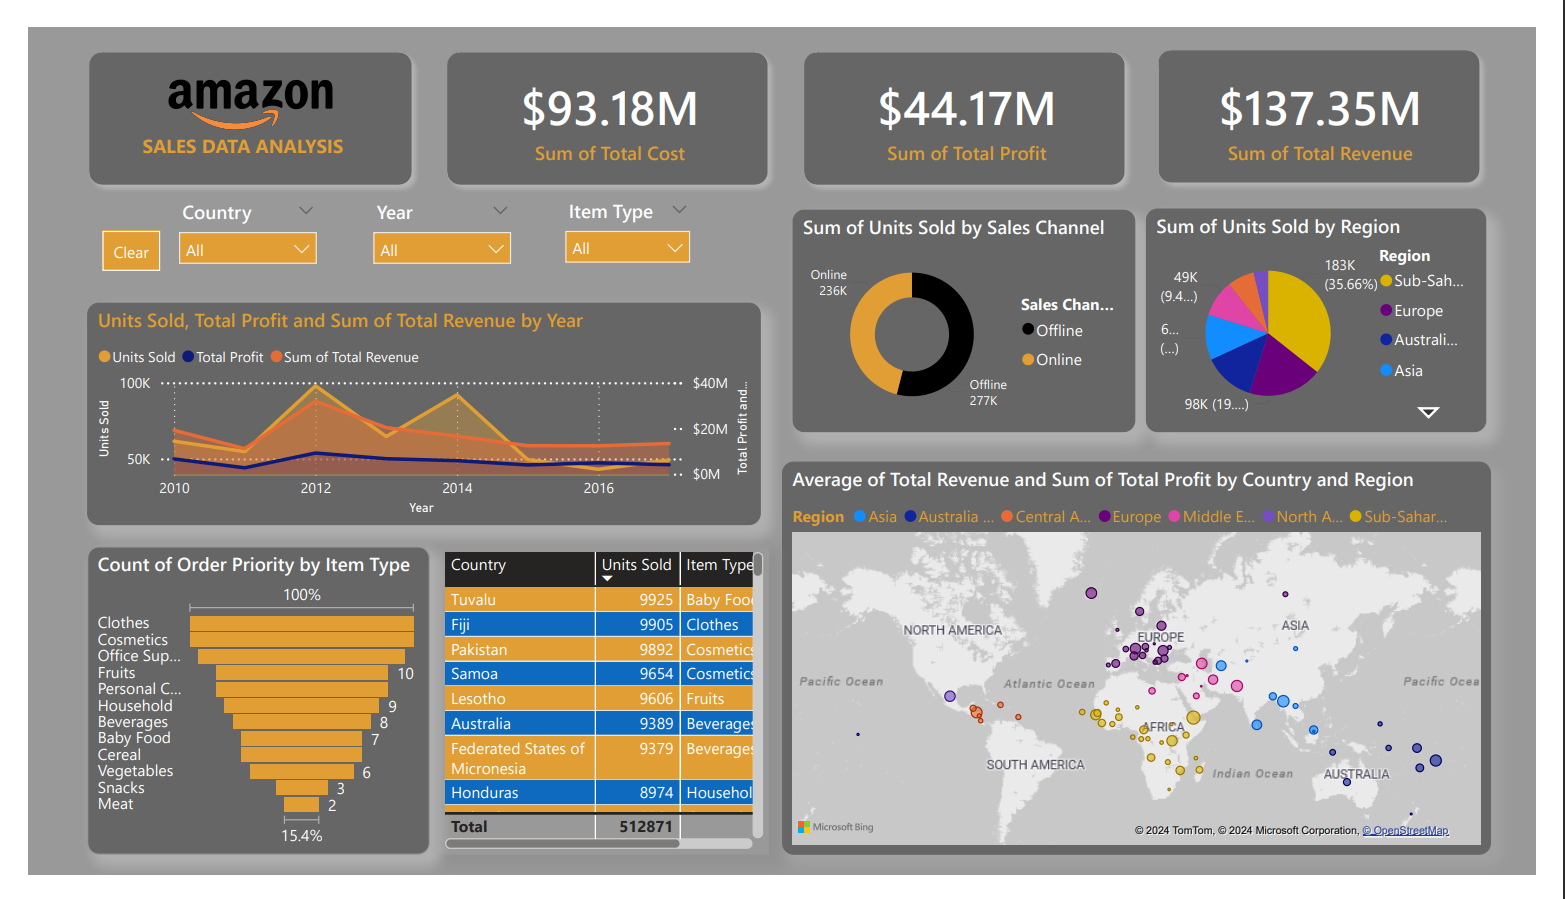

This screenshot's page, from the dashboard's own definition file:
{"tool":"powerbi","page":{"name":"Page 1","canvas":[1280,720],"ordinal":0},"visuals":[{"type":"shape","box":[347.5,12.8,290,130],"z":0},{"type":"shape","box":[43,12.8,290.7,130.2],"z":1000},{"type":"image","box":[48.8,16.3,279.1,90.7],"z":2000},{"type":"shape","box":[650.2,12.8,290,130],"z":3000},{"type":"shape","box":[951.1,11.4,290,130],"z":4000},{"type":"card","fields":{"Values":["Sum(cleaned_amazon_sales_data.Total Cost)"]},"box":[349.4,13.2,289.5,130.2],"z":5000},{"type":"card","fields":{"Values":["Sum(cleaned_amazon_sales_data.Total Profit)"]},"box":[652.3,13.2,289.5,130.2],"z":6000},{"type":"card","fields":{"Values":["Sum(cleaned_amazon_sales_data.Total Revenue)"]},"box":[952.3,13,289.5,130.2],"z":7000},{"type":"donutChart","fields":{"Category":["cleaned_amazon_sales_data.Sales Channel","cleaned_amazon_sales_data.Year"],"Y":["Sum(cleaned_amazon_sales_data.Units Sold)"]},"box":[648.8,154.7,290.7,189.5],"z":8000},{"type":"funnel","fields":{"Y":["CountNonNull(cleaned_amazon_sales_data.Order Priority)"],"Category":["cleaned_amazon_sales_data.Item Type"]},"box":[50,440.7,290.7,262.8],"z":9000},{"type":"textbox","box":[91.9,84.9,193,38.4],"z":10000},{"type":"pieChart","fields":{"Y":["Sum(cleaned_amazon_sales_data.Units Sold)"],"Category":["cleaned_amazon_sales_data.Region"]},"box":[948.8,154.2,289.5,189.5],"z":11000},{"type":"actionButton","box":[62.8,173.3,48.8,33.7],"z":12000},{"type":"slicer","fields":{"Values":["cleaned_amazon_sales_data.Country"]},"box":[117.9,141.4,137.2,90.7],"z":14000},{"type":"slicer","fields":{"Values":["cleaned_amazon_sales_data.Year"]},"box":[283,141.4,137.2,90.7],"z":15000},{"type":"slicer","fields":{"Values":["cleaned_amazon_sales_data.Item Type"]},"box":[445.6,140,126.7,91.9],"z":16000},{"type":"areaChart","fields":{"Category":["cleaned_amazon_sales_data.Year"],"Y":["Sum(cleaned_amazon_sales_data.Units Sold)"],"Y2":["Sum(cleaned_amazon_sales_data.Total Profit)","Sum(cleaned_amazon_sales_data.Total Revenue)"]},"box":[50,233.7,572.1,189.5],"z":19000},{"type":"map","fields":{"Category":["cleaned_amazon_sales_data.Country"],"Series":["cleaned_amazon_sales_data.Region"],"Size":["Sum(cleaned_amazon_sales_data.Total Profit)"],"Y":["Avg(cleaned_amazon_sales_data.Total Revenue)"]},"box":[639.5,368.6,602.3,334.9],"z":19001},{"type":"tableEx","fields":{"Values":["cleaned_amazon_sales_data.Country","cleaned_amazon_sales_data.Item Type","cleaned_amazon_sales_data.MonthYear.Variation.Date Hierarchy.Year","Sum(cleaned_amazon_sales_data.Units Sold)"]},"box":[347.7,440.7,281.4,262.8],"z":19002}]}

Visuals, with their boxes in screenshot pixels (x1, y1, x2, y2), scaled from the page's 1280x720 canvas onto the 1565x899 screenshot:
shape: bbox=(425, 16, 779, 178)
shape: bbox=(53, 16, 408, 179)
image: bbox=(60, 20, 401, 134)
shape: bbox=(795, 16, 1150, 178)
shape: bbox=(1163, 14, 1517, 177)
card - Sum(cleaned_amazon_sales_data.Total Cost): bbox=(427, 16, 781, 179)
card - Sum(cleaned_amazon_sales_data.Total Profit): bbox=(798, 16, 1151, 179)
card - Sum(cleaned_amazon_sales_data.Total Revenue): bbox=(1164, 16, 1518, 179)
donutChart - cleaned_amazon_sales_data.Sales Channel x cleaned_amazon_sales_data.Year: bbox=(793, 193, 1149, 430)
funnel - CountNonNull(cleaned_amazon_sales_data.Order Priority) x cleaned_amazon_sales_data.Item Type: bbox=(61, 550, 417, 878)
textbox: bbox=(112, 106, 348, 154)
pieChart - Sum(cleaned_amazon_sales_data.Units Sold) x cleaned_amazon_sales_data.Region: bbox=(1160, 193, 1514, 429)
actionButton: bbox=(77, 216, 136, 258)
slicer - cleaned_amazon_sales_data.Country: bbox=(144, 177, 312, 290)
slicer - cleaned_amazon_sales_data.Year: bbox=(346, 177, 514, 290)
slicer - cleaned_amazon_sales_data.Item Type: bbox=(545, 175, 700, 290)
areaChart - cleaned_amazon_sales_data.Year x Sum(cleaned_amazon_sales_data.Units Sold): bbox=(61, 292, 761, 528)
map - cleaned_amazon_sales_data.Country x cleaned_amazon_sales_data.Region: bbox=(782, 460, 1518, 878)
tableEx - cleaned_amazon_sales_data.Country x cleaned_amazon_sales_data.Item Type: bbox=(425, 550, 769, 878)
